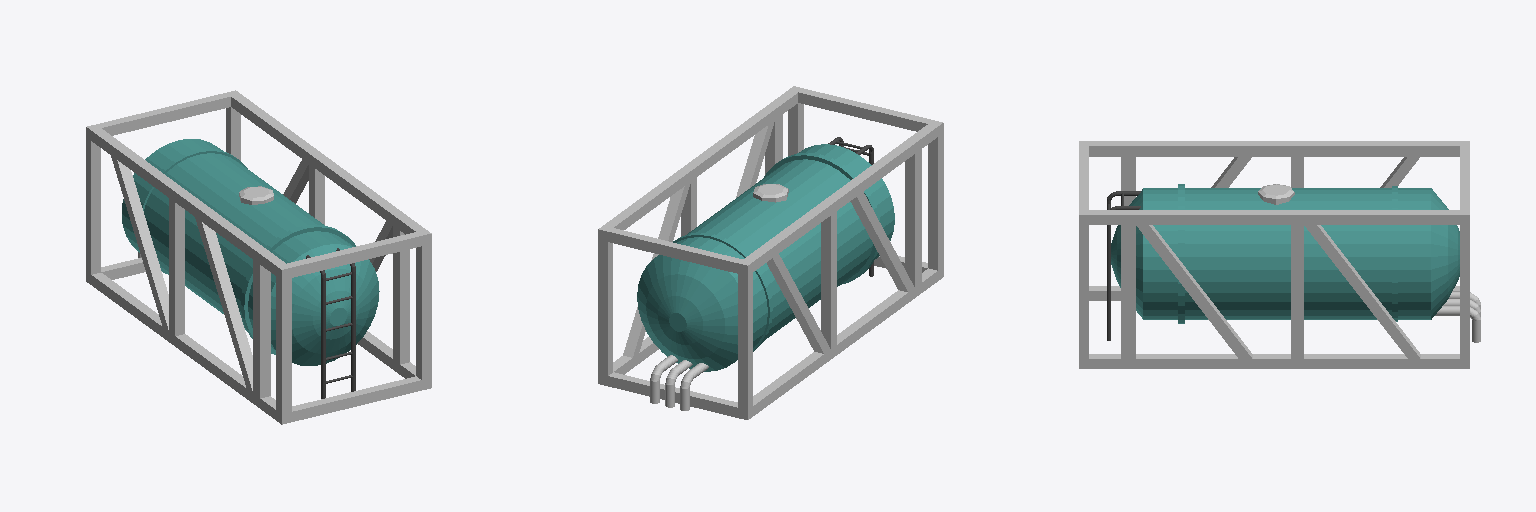
The model's file is tank.obj.
The picture shows the model from 3 angles: view 1: azimuth 30°, elevation 25°; view 2: azimuth 150°, elevation 25°; view 3: azimuth 270°, elevation 25°; orthographic projection.
Visible parts, largest first — view 1: Cube.001_Cube.002, Cylinder, Cylinder.004_Cylinder.015, Cylinder.008_Cylinder.010; view 2: Cube.001_Cube.002, Cylinder, Cylinder.008_Cylinder.010, Cylinder.009_Cylinder.011, Cylinder.011_Cylinder.019, Cylinder.010_Cylinder.018; view 3: Cylinder, Cube.001_Cube.002, Cylinder.004_Cylinder.015, Cylinder.008_Cylinder.010.
Part boxes in pixels (left/top/right/bottom): Cube.001_Cube.002: left=86, top=90, right=431, bottom=424; Cylinder: left=122, top=139, right=379, bottom=365; Cylinder.004_Cylinder.015: left=306, top=248, right=355, bottom=398; Cylinder.008_Cylinder.010: left=239, top=186, right=273, bottom=204; Cube.001_Cube.002: left=598, top=86, right=943, bottom=419; Cylinder: left=637, top=144, right=894, bottom=371; Cylinder.008_Cylinder.010: left=753, top=184, right=788, bottom=202; Cylinder.009_Cylinder.011: left=650, top=355, right=677, bottom=403; Cylinder.011_Cylinder.019: left=680, top=363, right=708, bottom=410; Cylinder.010_Cylinder.018: left=665, top=360, right=692, bottom=407; Cylinder: left=1111, top=184, right=1459, bottom=323; Cube.001_Cube.002: left=1079, top=141, right=1469, bottom=368; Cylinder.004_Cylinder.015: left=1107, top=191, right=1140, bottom=340; Cylinder.008_Cylinder.010: left=1258, top=184, right=1294, bottom=204.
Bounding box in the file's own units: 2.63 × 2.61 × 6.12.